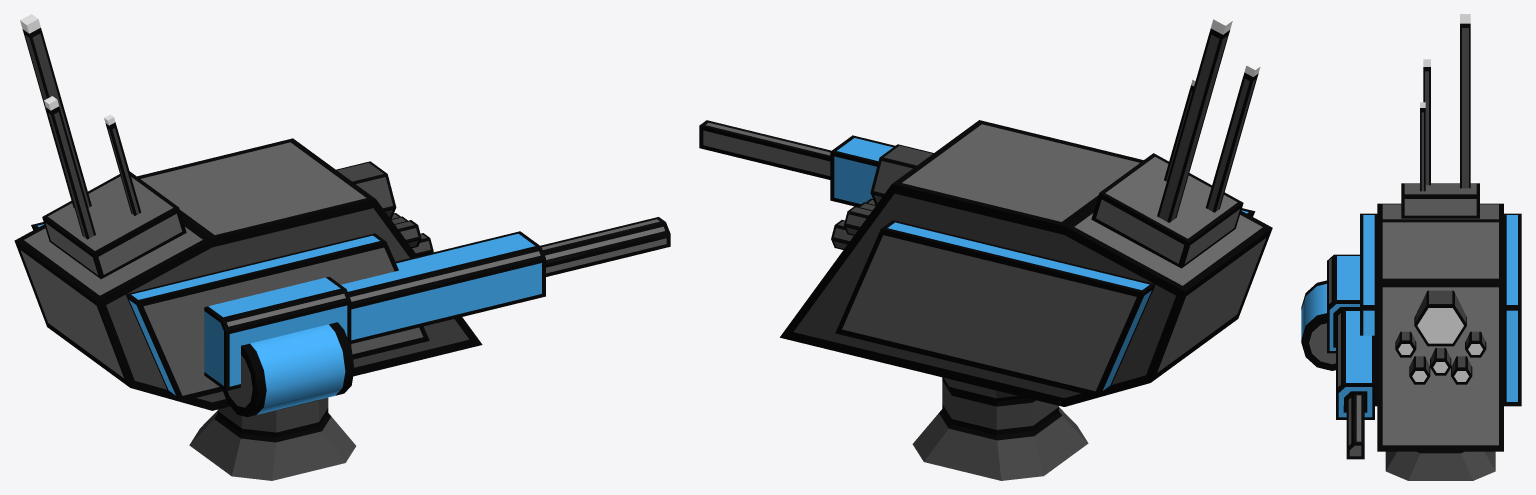
File: SpiderMech Debris.fbx
3 views of the same model, side by side, from view 1: azimuth 30°, elevation 25°; view 2: azimuth 150°, elevation 25°; view 3: azimuth 270°, elevation 25° (orthographic). The views are drawn at different scales.
Visible parts, largest first — view 1: Spider Mech Debris.013, Spider Mech Debris, Spider Mech Debris.015, Spider Mech Debris.001, Spider Mech Debris.002, Spider Mech Debris.014, Spider Mech Debris.003, Spider Mech Debris.004, Spider Mech Debris.006, Spider Mech Debris.008, Spider Mech Debris.005; view 2: Spider Mech Debris.013, Spider Mech Debris.016, Spider Mech Debris.001, Spider Mech Debris.014, Spider Mech Debris.004, Spider Mech Debris.003, Spider Mech Debris, Spider Mech Debris.006, Spider Mech Debris.008; view 3: Spider Mech Debris.013, Spider Mech Debris, Spider Mech Debris.016, Spider Mech Debris.001, Spider Mech Debris.014, Spider Mech Debris.015, Spider Mech Debris.008, Spider Mech Debris.002, Spider Mech Debris.004, Spider Mech Debris.003, Spider Mech Debris.006, Spider Mech Debris.005 (+5 smaller).
Boxes of the visible parts, <box> form: Spider Mech Debris.013: <box>14,138,482,410</box>; Spider Mech Debris: <box>204,231,545,391</box>; Spider Mech Debris.015: <box>125,233,429,401</box>; Spider Mech Debris.001: <box>189,397,355,480</box>; Spider Mech Debris.002: <box>222,322,354,416</box>; Spider Mech Debris.014: <box>42,171,186,278</box>; Spider Mech Debris.003: <box>540,217,670,276</box>; Spider Mech Debris.004: <box>20,14,91,207</box>; Spider Mech Debris.006: <box>44,96,95,239</box>; Spider Mech Debris.008: <box>336,161,396,219</box>; Spider Mech Debris.005: <box>104,114,141,215</box>; Spider Mech Debris.013: <box>780,120,1272,406</box>; Spider Mech Debris.016: <box>835,220,1155,397</box>; Spider Mech Debris.001: <box>912,377,1088,480</box>; Spider Mech Debris.014: <box>1091,153,1243,268</box>; Spider Mech Debris.004: <box>1157,14,1232,222</box>; Spider Mech Debris.003: <box>699,120,830,179</box>; Spider Mech Debris: <box>830,135,895,206</box>; Spider Mech Debris.006: <box>1205,61,1260,212</box>; Spider Mech Debris.008: <box>870,144,933,205</box>; Spider Mech Debris.013: <box>1377,203,1503,451</box>; Spider Mech Debris: <box>1327,254,1374,419</box>; Spider Mech Debris.016: <box>1504,213,1521,406</box>; Spider Mech Debris.001: <box>1385,451,1495,480</box>; Spider Mech Debris.014: <box>1401,183,1479,218</box>; Spider Mech Debris.015: <box>1360,213,1377,406</box>; Spider Mech Debris.008: <box>1414,290,1466,346</box>; Spider Mech Debris.002: <box>1301,280,1335,370</box>; Spider Mech Debris.004: <box>1460,14,1470,188</box>; Spider Mech Debris.003: <box>1346,394,1364,459</box>; Spider Mech Debris.006: <box>1423,59,1430,185</box>; Spider Mech Debris.005: <box>1420,102,1425,191</box>.
Bounding box in the file's own units: 1.58 × 3.61 × 2.84.
